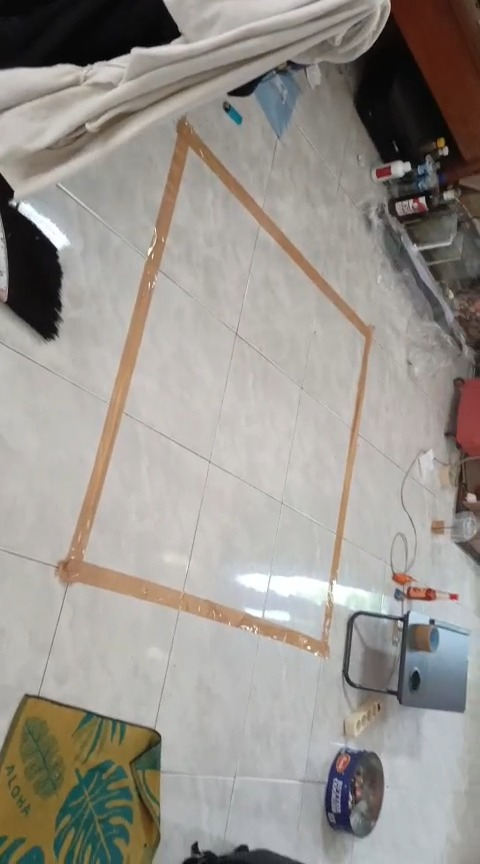floor marking: (57, 121, 372, 658)
